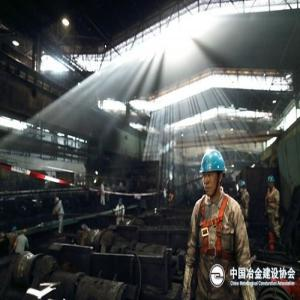blue: (200, 149, 228, 201), (268, 174, 276, 190), (239, 179, 247, 194)
